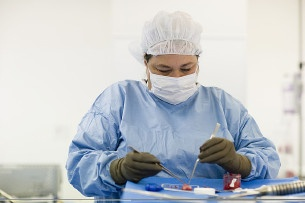Mask: (146, 55, 196, 104)
